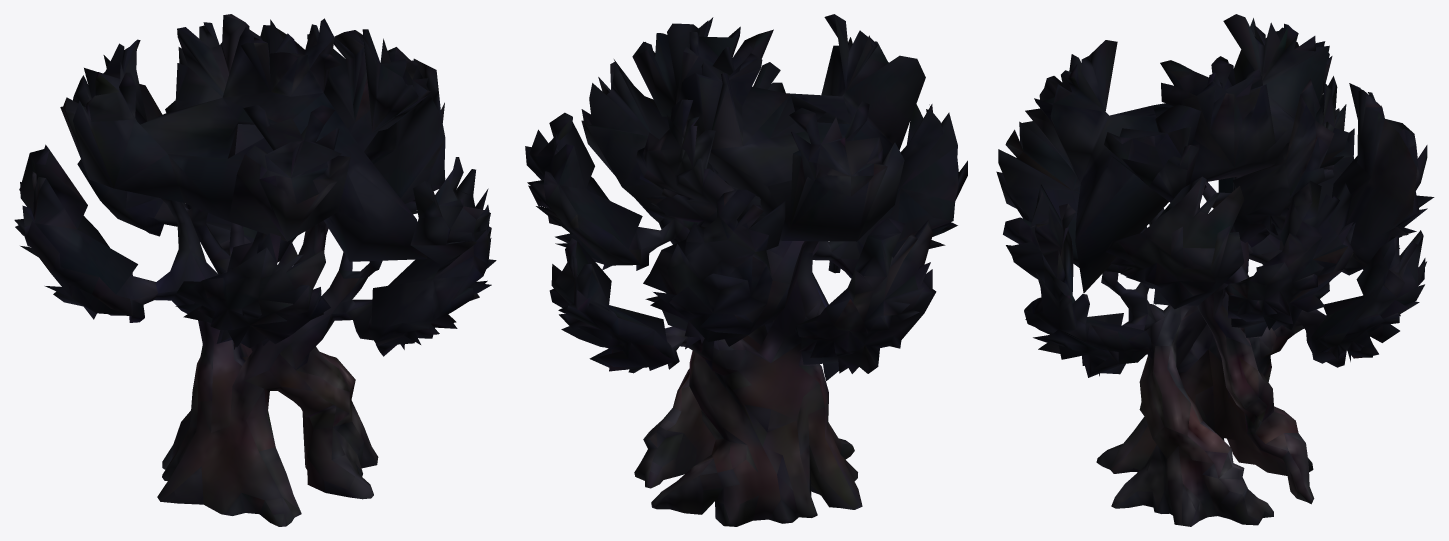
Rendered from prop_node_churchyard_yew.glb.
3 renders of one model, left to right at view 1: azimuth 30°, elevation 25°; view 2: azimuth 150°, elevation 25°; view 3: azimuth 270°, elevation 25°, orthographic. The views are drawn at different scales.
Parts seen in each view (by area): view 1: tripo_node_a18baa92-0d67-407d-94a7-c024a130b3ba; view 2: tripo_node_a18baa92-0d67-407d-94a7-c024a130b3ba; view 3: tripo_node_a18baa92-0d67-407d-94a7-c024a130b3ba.
Boxes of the visible parts, box(x1,y1,x2,y2) form: tripo_node_a18baa92-0d67-407d-94a7-c024a130b3ba: box(14, 14, 496, 526); tripo_node_a18baa92-0d67-407d-94a7-c024a130b3ba: box(525, 14, 967, 526); tripo_node_a18baa92-0d67-407d-94a7-c024a130b3ba: box(996, 14, 1434, 526).
Size of the model in its own units: 0.9589 by 0.998 by 0.9316.
Materials: 1 (1 with a texture image).
